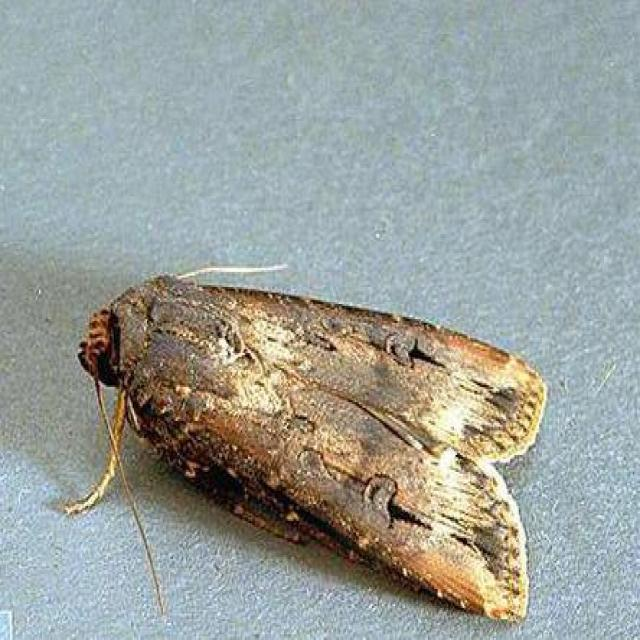armyworm: (75, 255, 548, 617)
